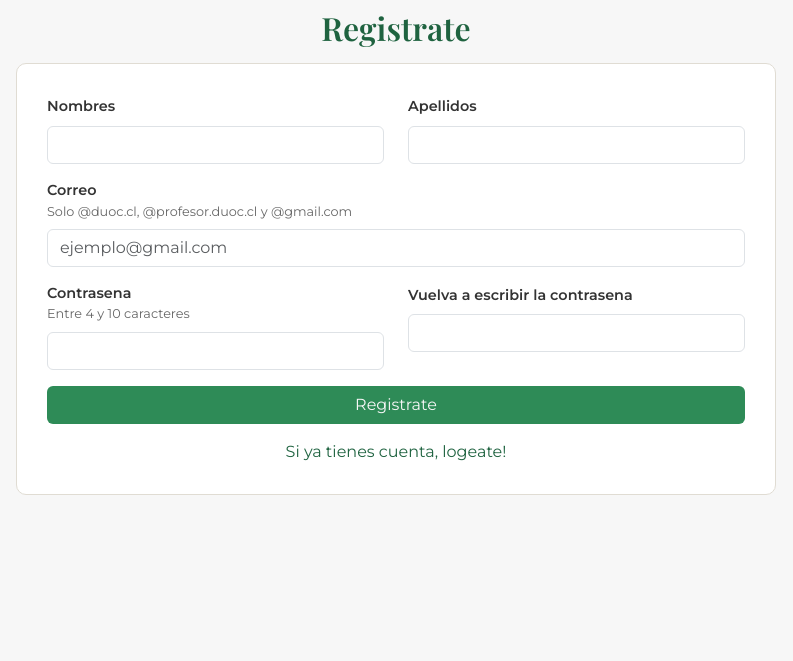
Test: Vista Registro › muestra los errores si se envia vacio
The width and height of the screenshot is (793, 661).
Click the button "Registrate" at coordinates (396, 405), box [47,386,745,424]
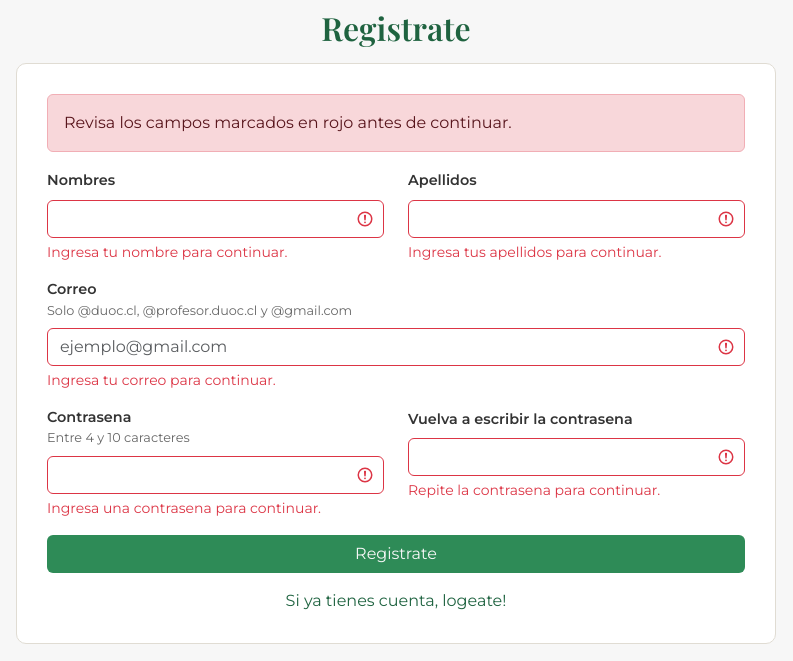
Now the text "Ingresa tu nombre para continuar." is shown, box [47,243,288,261]
Now the text "Ingresa tus apellidos para continuar." is shown, box [408,243,662,261]
Now the text "Ingresa tu correo para continuar." is shown, box [47,371,276,389]
